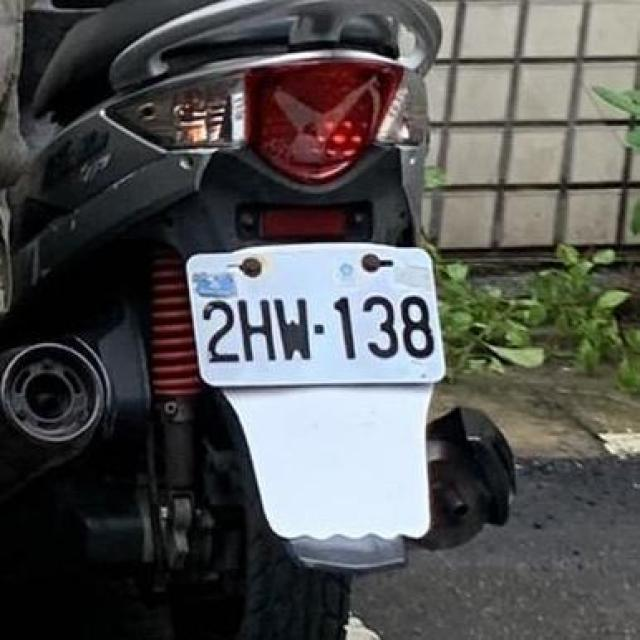W: (180, 236, 452, 392)
